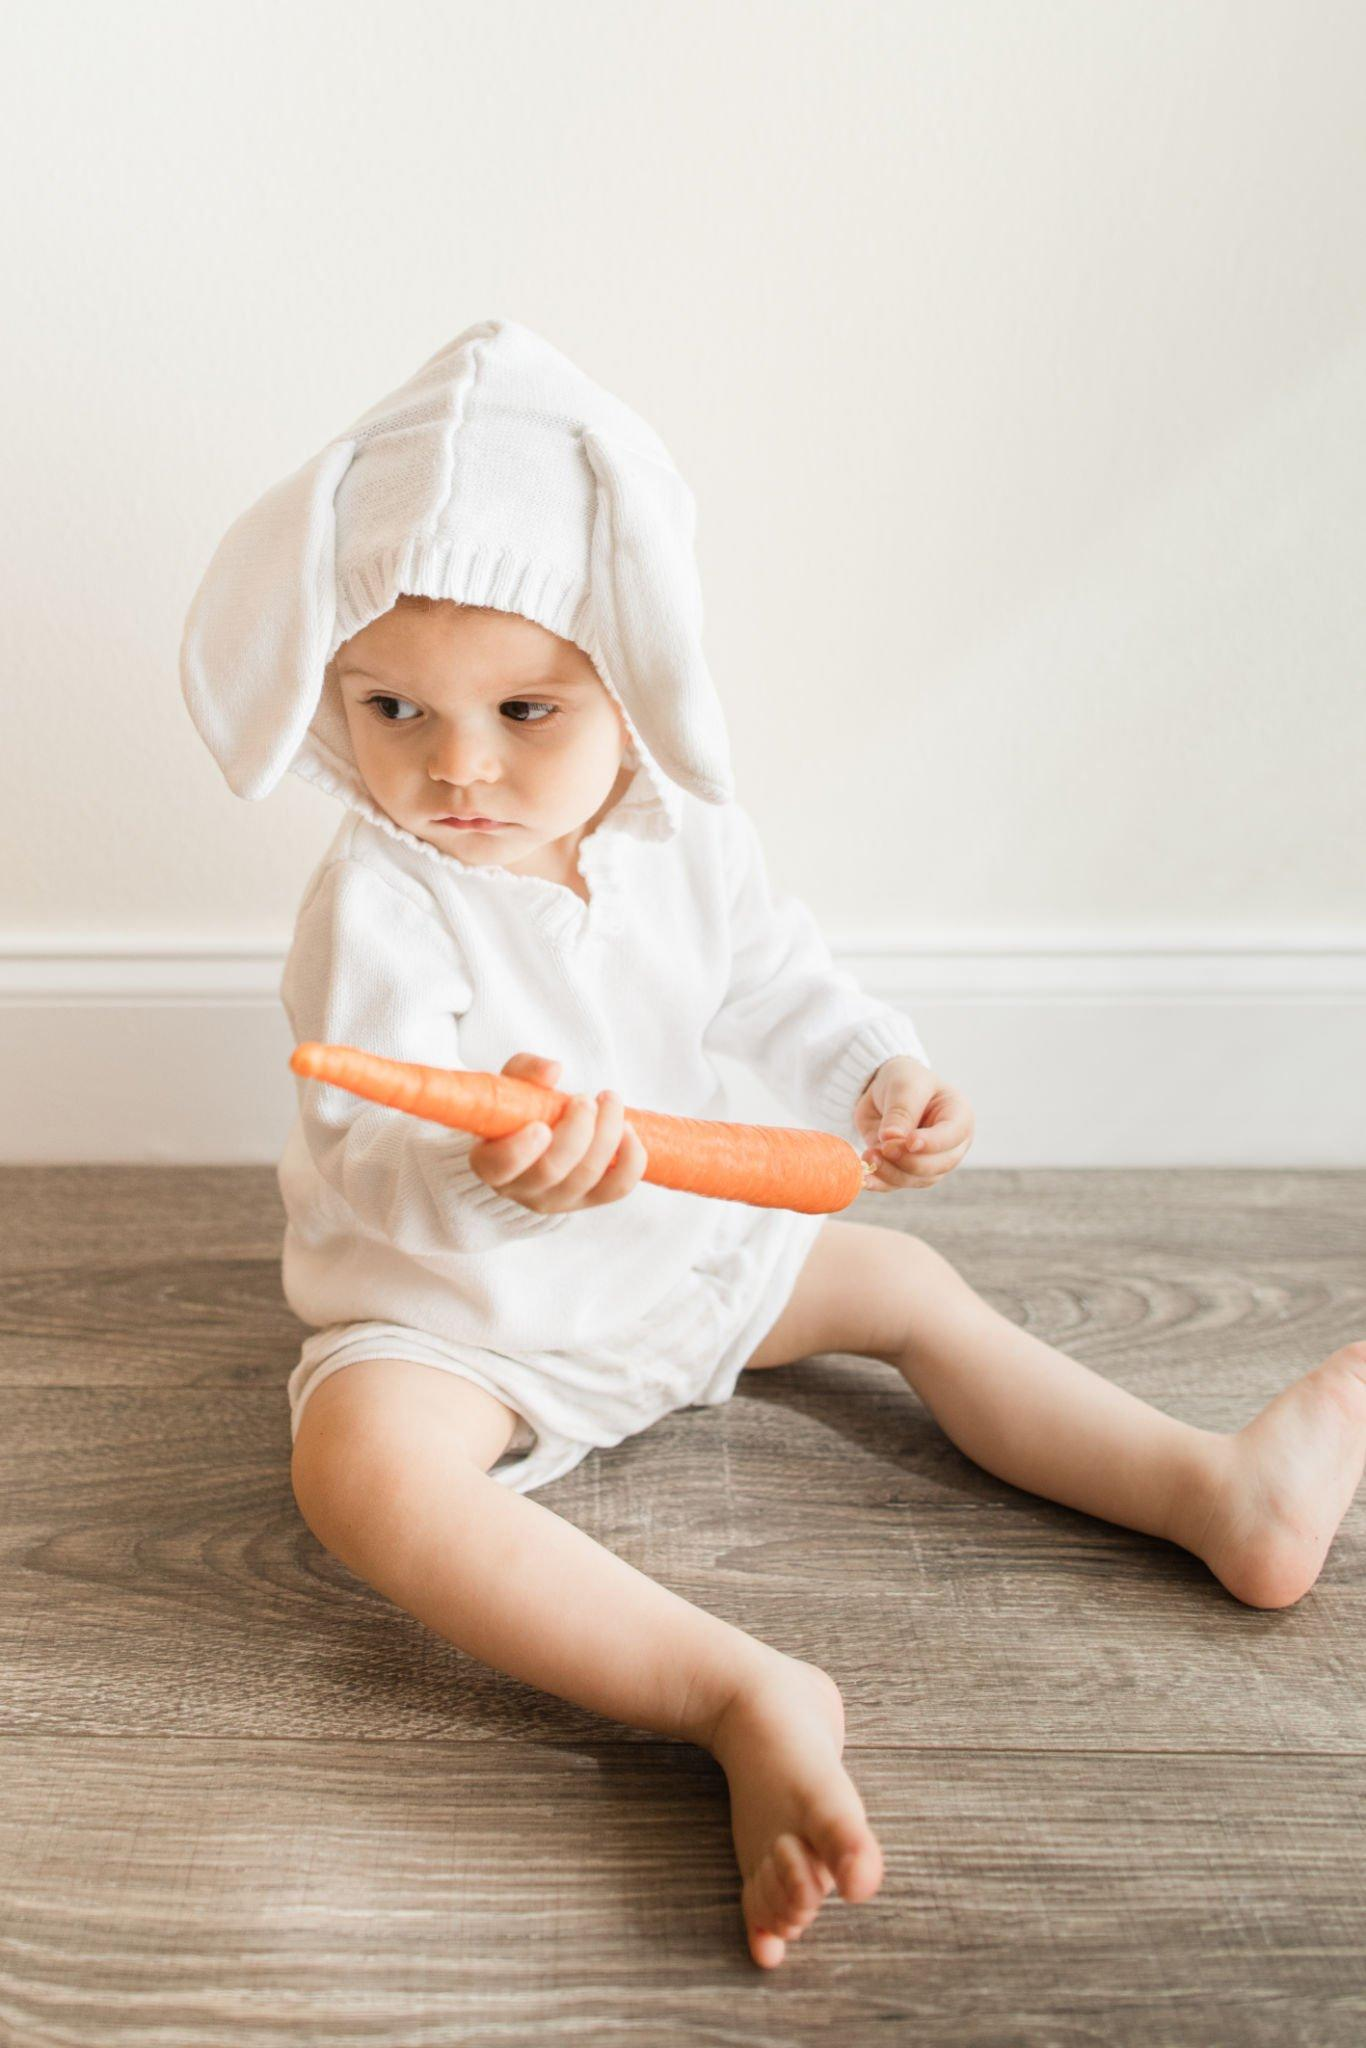Healthy: (341, 611, 636, 893)
